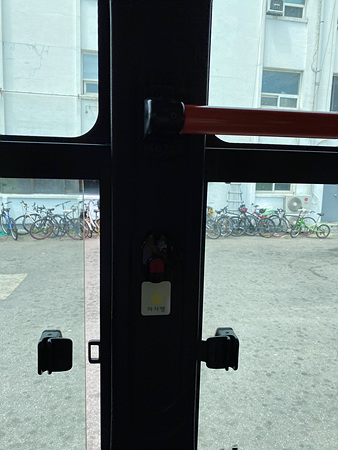bell: (140, 242, 171, 284)
